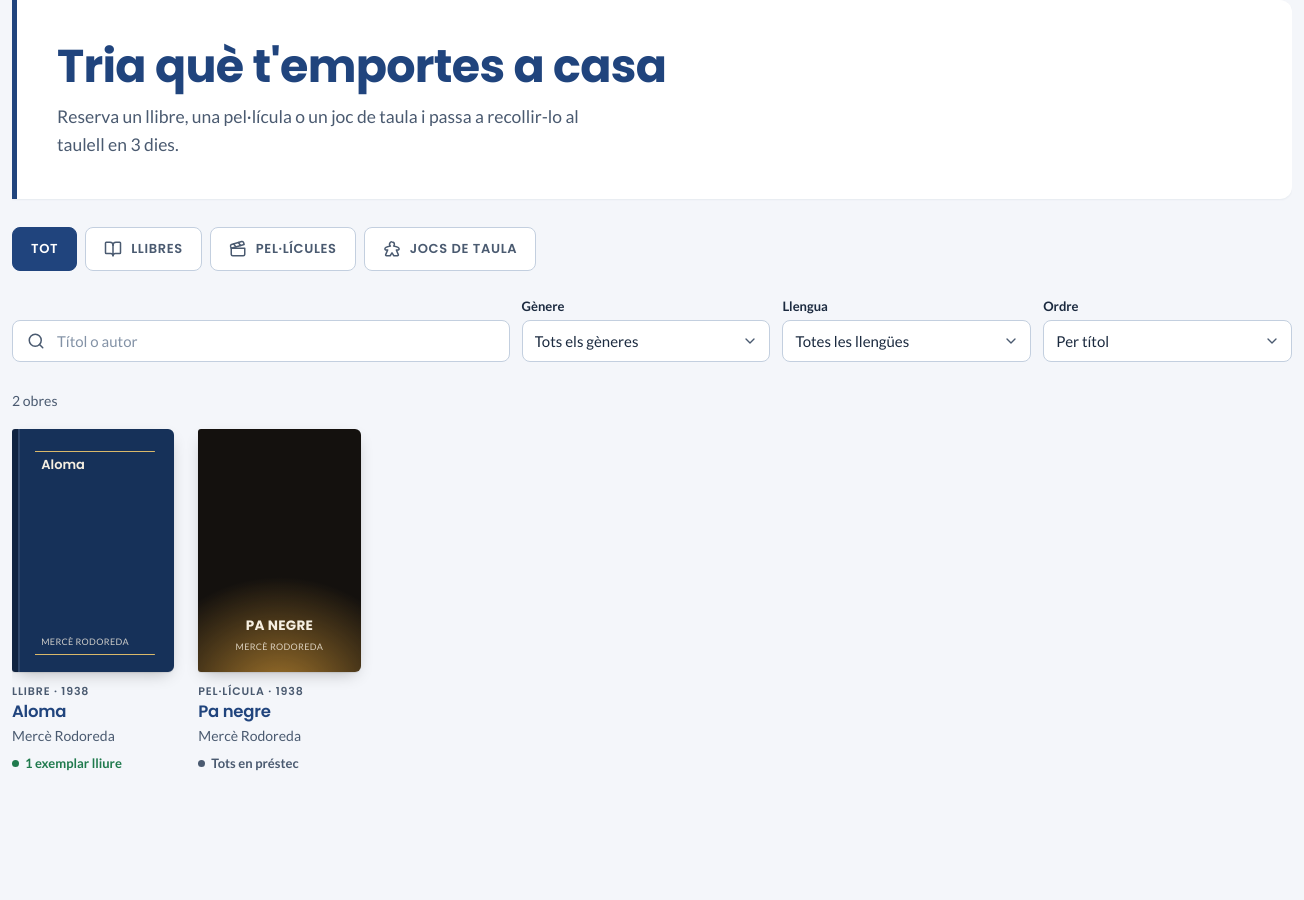
Test: CatalogPage › a kind tab filters the works and keeps it in the address
Expected: the heading "Aloma" is shown, x1=12 y1=700 x2=66 y2=723
Click the tab "Pel·lícules".
click(283, 249)  # box x1=210 y1=227 x2=356 y2=271
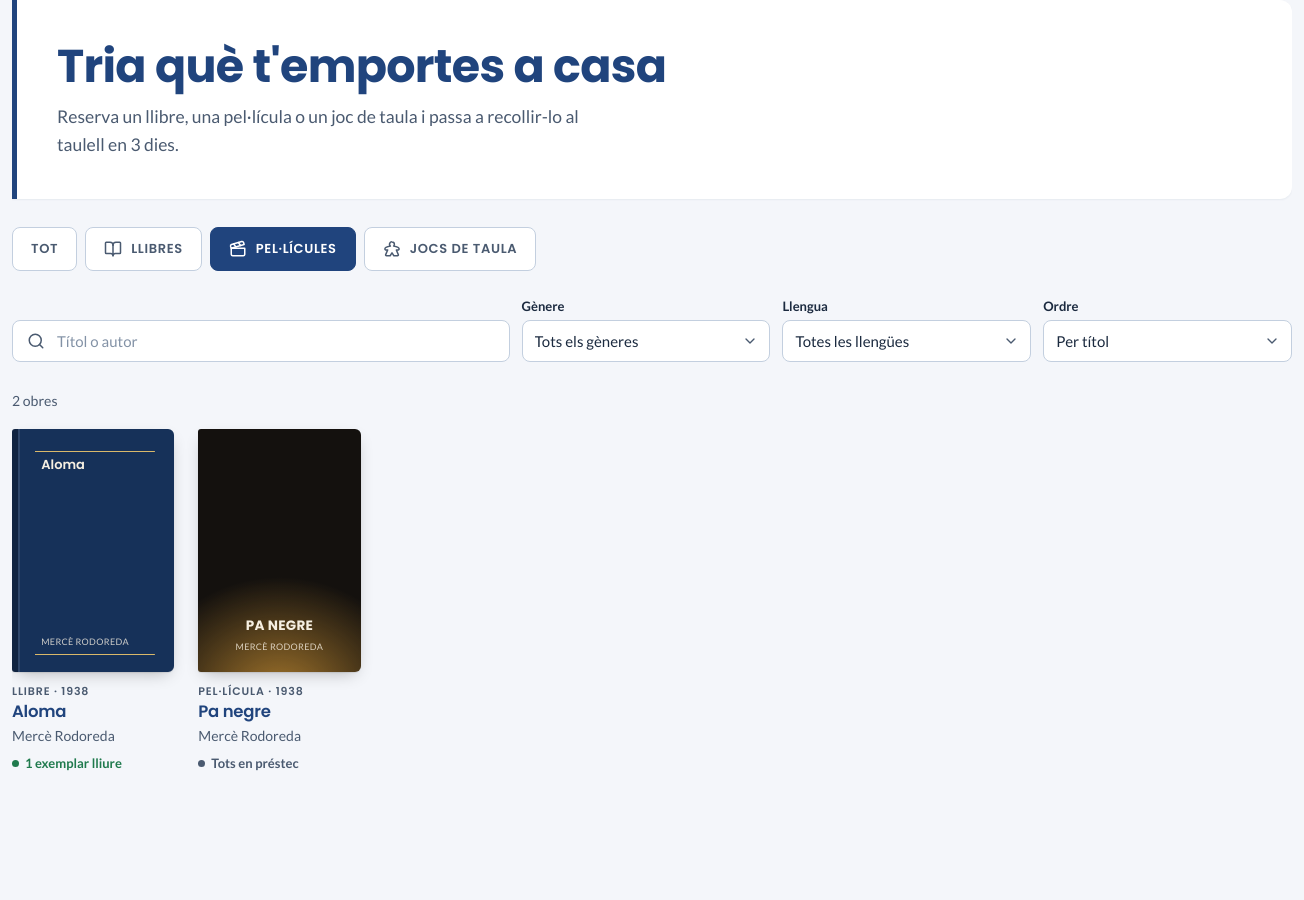
Expected: the tab "Pel·lícules" is selected, x1=210 y1=227 x2=356 y2=271
